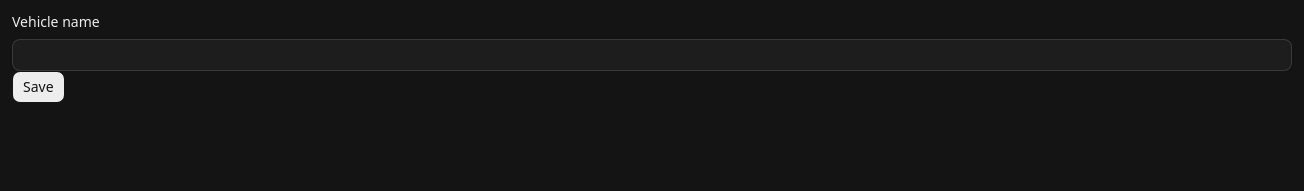
Test case: form pattern › shows server errors on the field and on the form
Step 1. Type "City car" into the field labelled "Vehicle name" → coordinates (652, 55), box 12,39 -> 1292,71
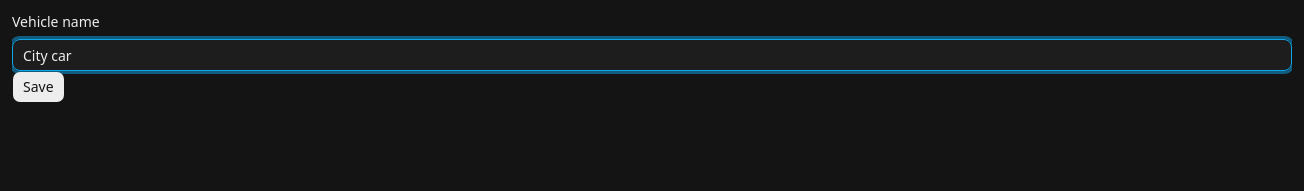
Step 2. Click the button "Save" → coordinates (38, 87), box 12,71 -> 65,103
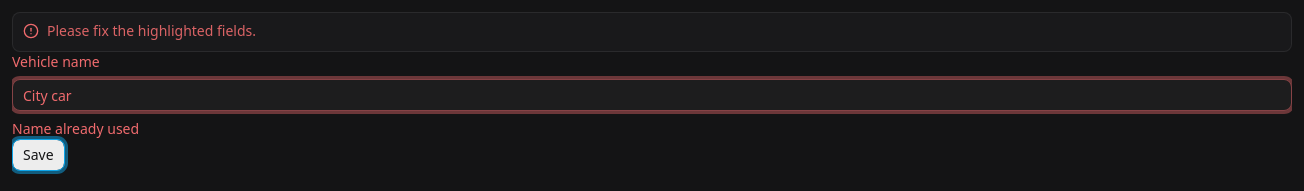
Check: the text "Name already used" is shown, box 12,119 -> 139,138
Check: the text "Please fix the highlighted fields." is shown, box 47,21 -> 256,40
